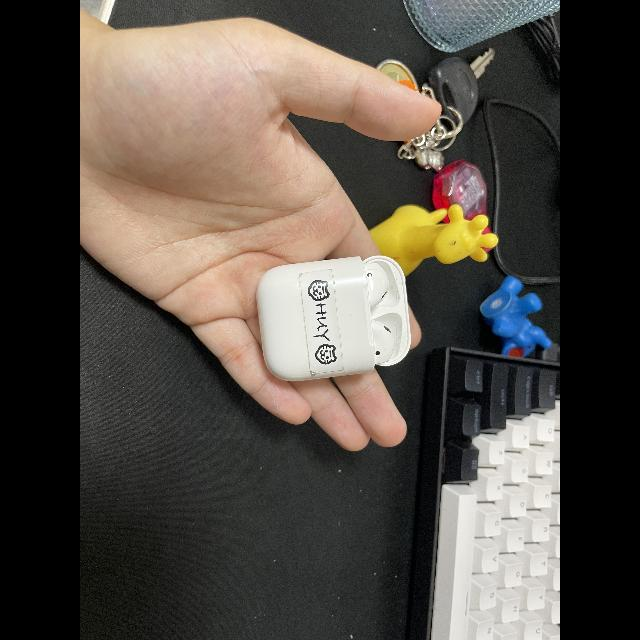airpod2: (255, 250, 415, 384)
